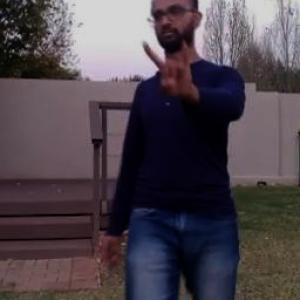takeoff-hand: (142, 24, 199, 100)
